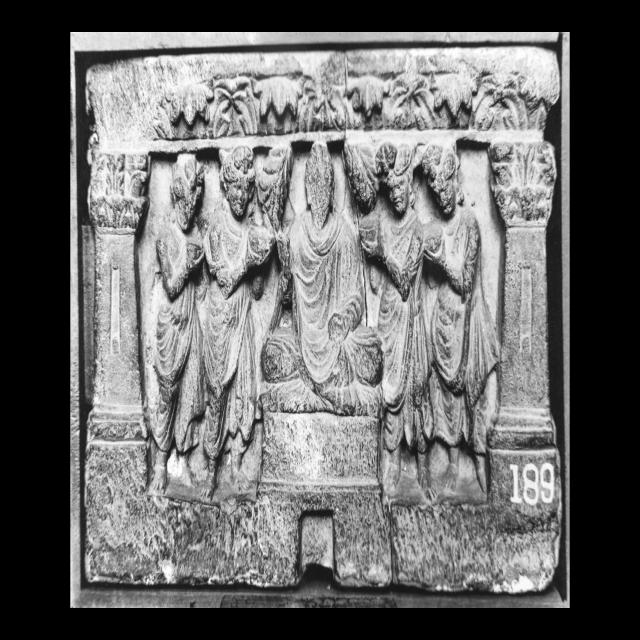buddha-sitting: (258, 142, 382, 496)
